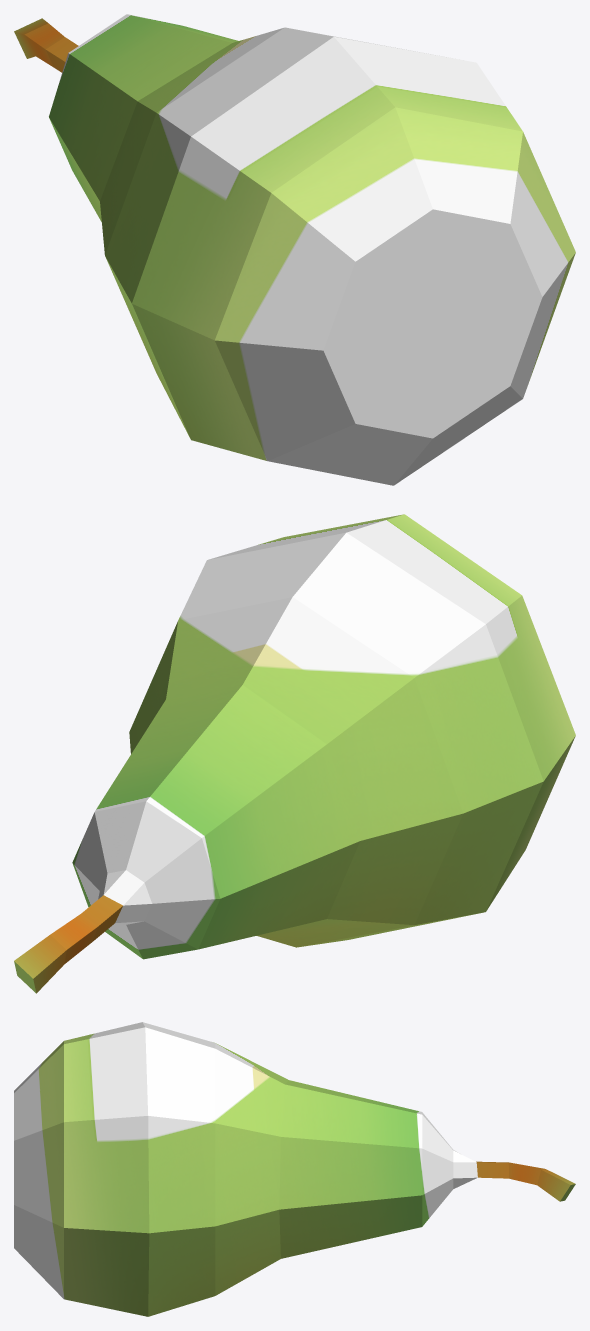
File: pear.fbx
The picture shows the model from 3 angles, top to bottom: view 1: azimuth 30°, elevation 25°; view 2: azimuth 150°, elevation 25°; view 3: azimuth 270°, elevation 25°; orthographic projection. The views are drawn at different scales.
Visible parts, largest first — view 1: pear; view 2: pear; view 3: pear.
Part boxes in pixels (bbox=[...]): pear: bbox=[14, 14, 575, 485]; pear: bbox=[14, 514, 575, 993]; pear: bbox=[14, 1022, 575, 1316].
Bounding box in the file's own units: 5.34 × 5.44 × 9.75.
